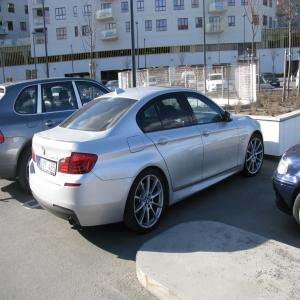Vehicle-registration-plate: (40, 158, 59, 177)
